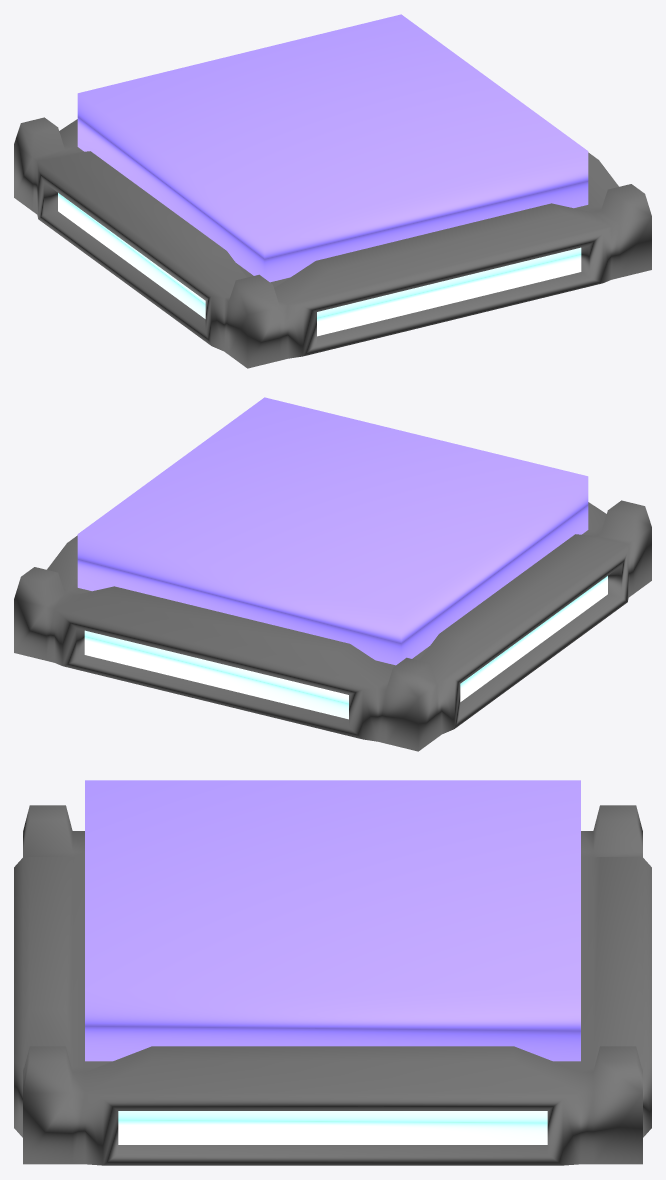
The model's file is Button.fbx.
3 views of the same model, one above another, from view 1: azimuth 30°, elevation 25°; view 2: azimuth 150°, elevation 25°; view 3: azimuth 270°, elevation 25° (orthographic). The views are drawn at different scales.
Visible parts, largest first — view 1: Button, Button_Base; view 2: Button, Button_Base; view 3: Button, Button_Base.
Boxes of the visible parts, <box> form: Button: <box>77,14,588,282</box>; Button_Base: <box>14,117,651,368</box>; Button: <box>77,397,588,665</box>; Button_Base: <box>14,500,651,751</box>; Button: <box>85,780,580,1061</box>; Button_Base: <box>14,805,651,1165</box>.
Size of the model in its own units: 2.57 by 0.6594 by 2.57.
